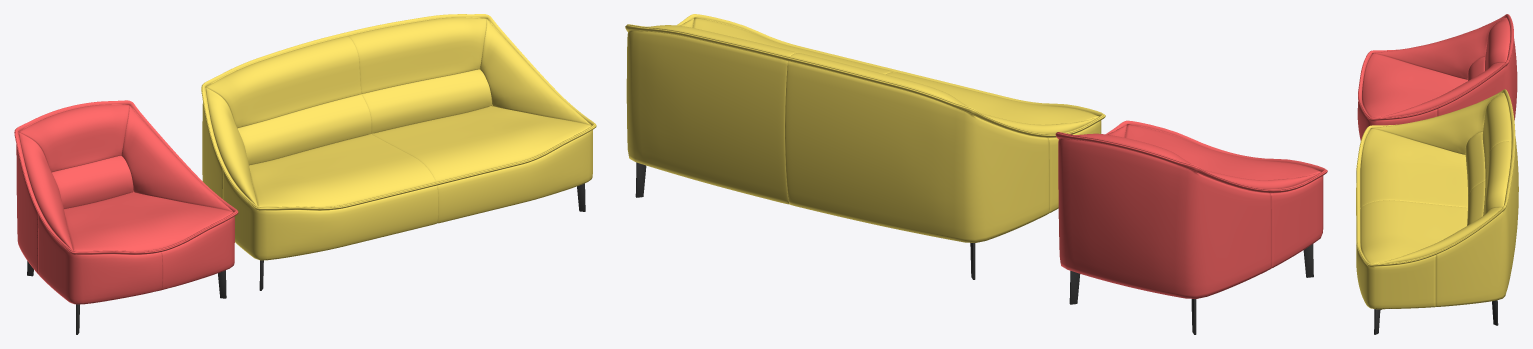
The model's file is Mueble1D.glb.
The picture shows the model from 3 angles, left to right: view 1: azimuth 30°, elevation 25°; view 2: azimuth 150°, elevation 25°; view 3: azimuth 270°, elevation 25°; orthographic projection. The views are drawn at different scales.
Visible parts, largest first — view 1: PR_Sofa_Low, PR_Armchair_Low; view 2: PR_Sofa_Low, PR_Armchair_Low; view 3: PR_Sofa_Low, PR_Armchair_Low.
Boxes of the visible parts, box(x1,y1,x2,y2) form: PR_Sofa_Low: box(201, 14, 596, 290); PR_Armchair_Low: box(14, 100, 238, 334); PR_Sofa_Low: box(625, 14, 1105, 279); PR_Armchair_Low: box(1055, 120, 1327, 334); PR_Sofa_Low: box(1356, 89, 1518, 334); PR_Armchair_Low: box(1357, 14, 1517, 140).
Bounding box in the file's own units: 3.17 × 0.9013 × 1.02.
